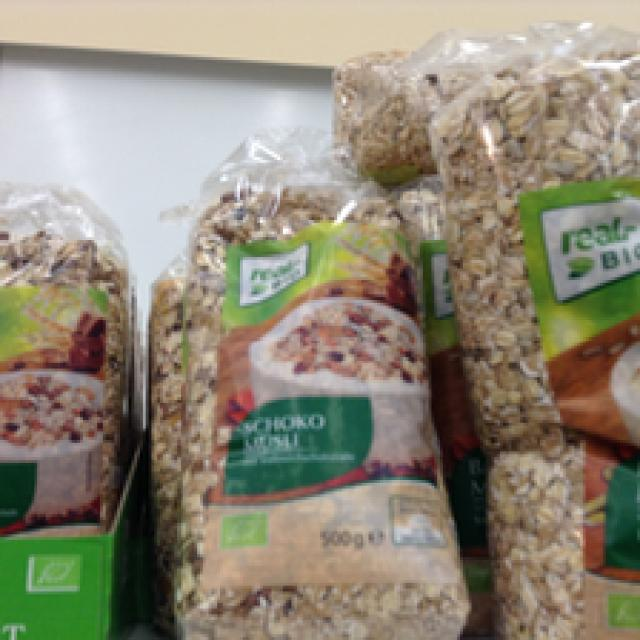groceries: (146, 192, 471, 632), (414, 43, 634, 634), (0, 183, 129, 534)
